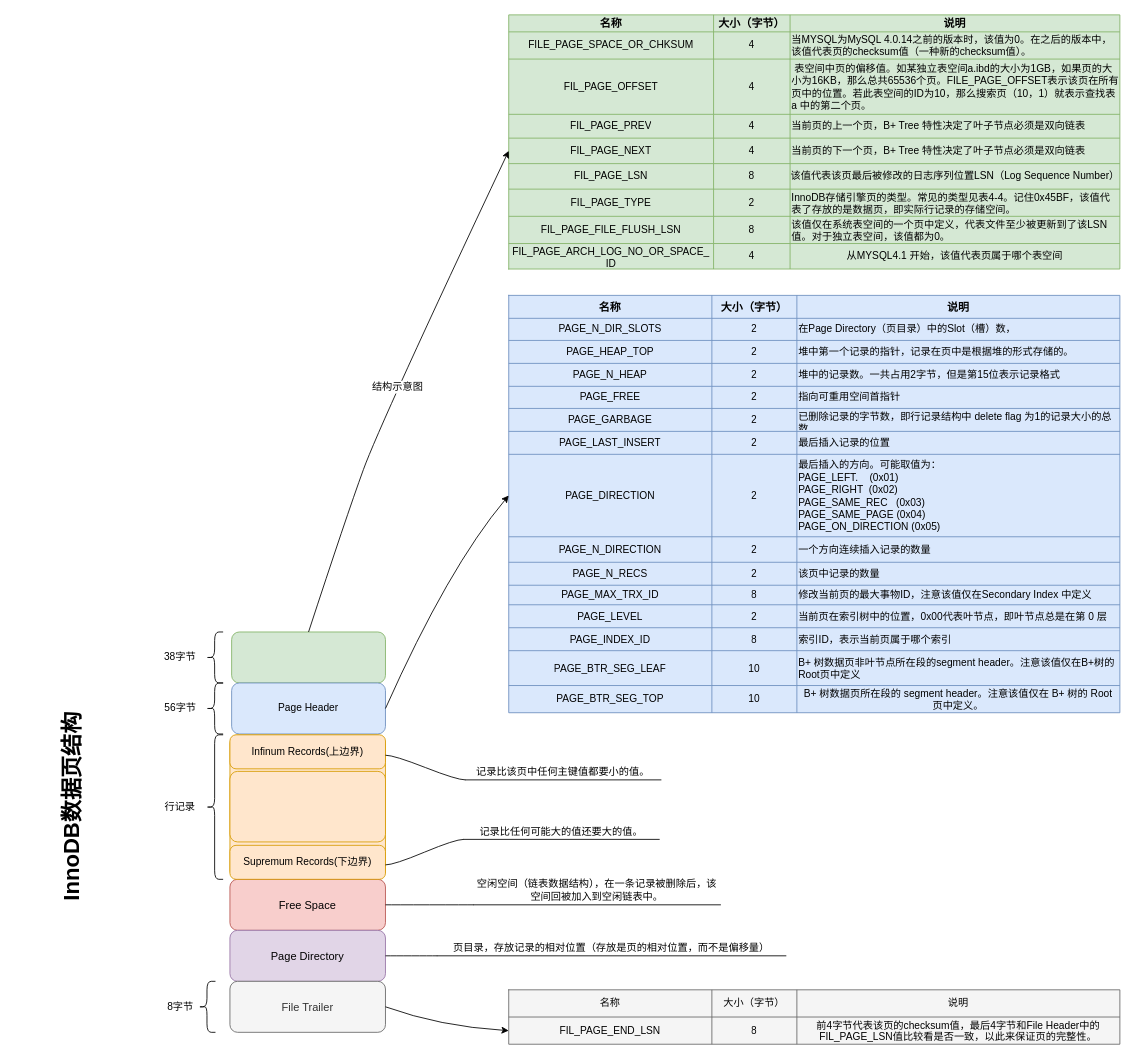
Image size: 1135x1059. Some labels were removed from this diagram. The box of each missing label's shape, as (x1, y1, x2, y2) in pixels:
File Header: (231, 631, 385, 683)
User Records: (229, 771, 385, 842)
